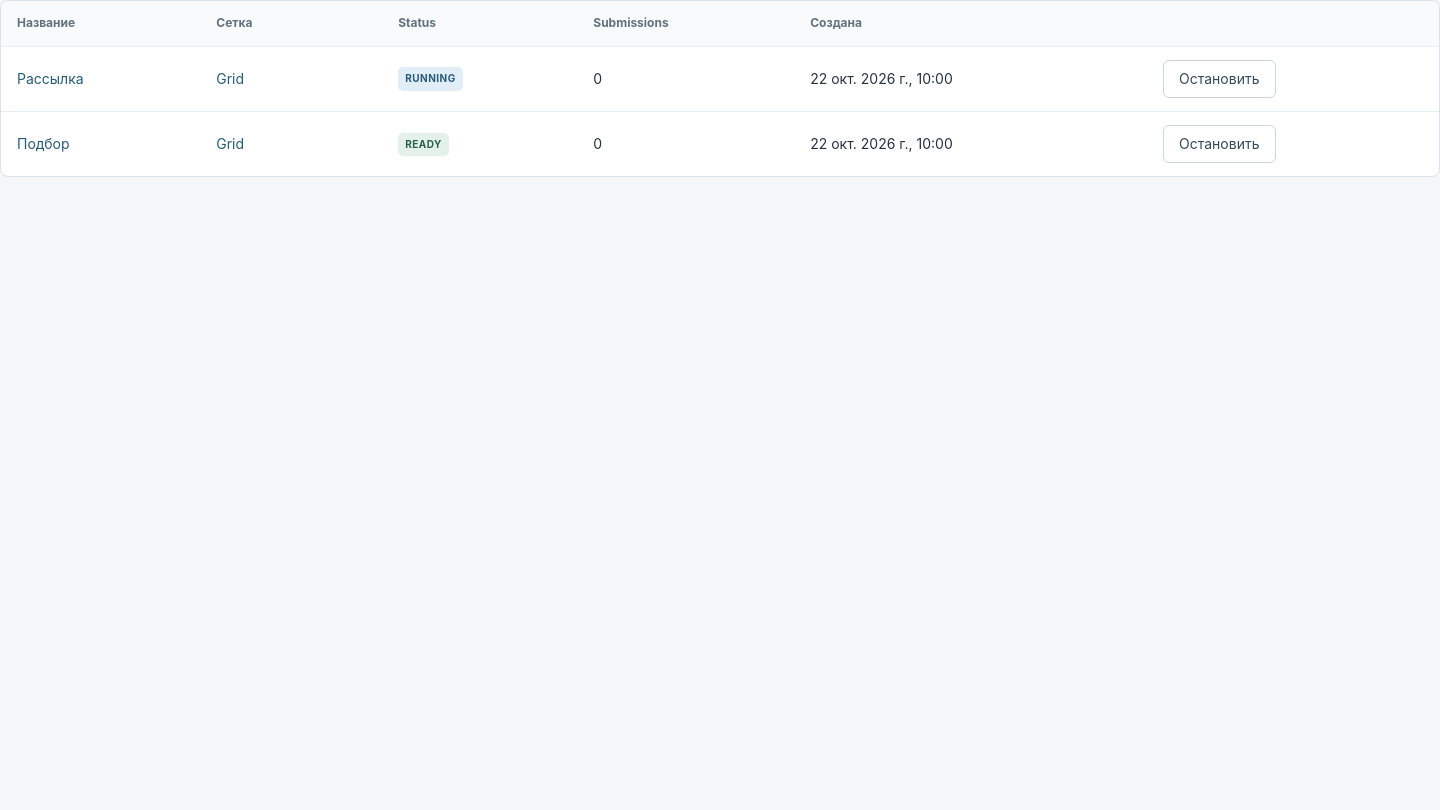
Test: offers to stop, not delete, a campaign in progress
This screenshot has width=1440, height=810.
Click the button "Остановить" in the row of "Рассылка": (1219, 79) [1163,60,1276,98]
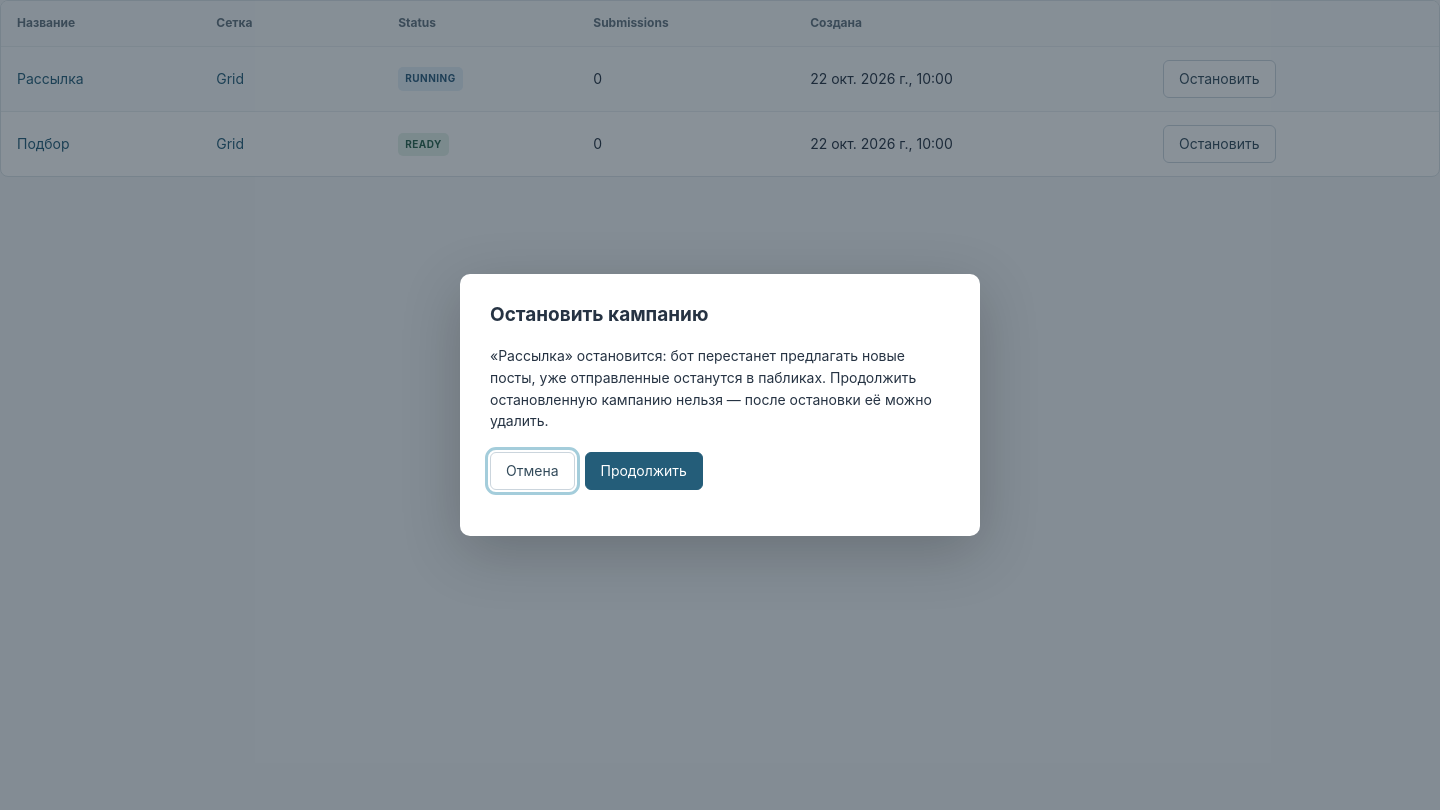
Result: the dialog "Остановить кампанию" shows "перестанет предлагать новые посты" at [490,347,905,386]
Click the button "Продолжить": (644, 471) [584,452,703,490]
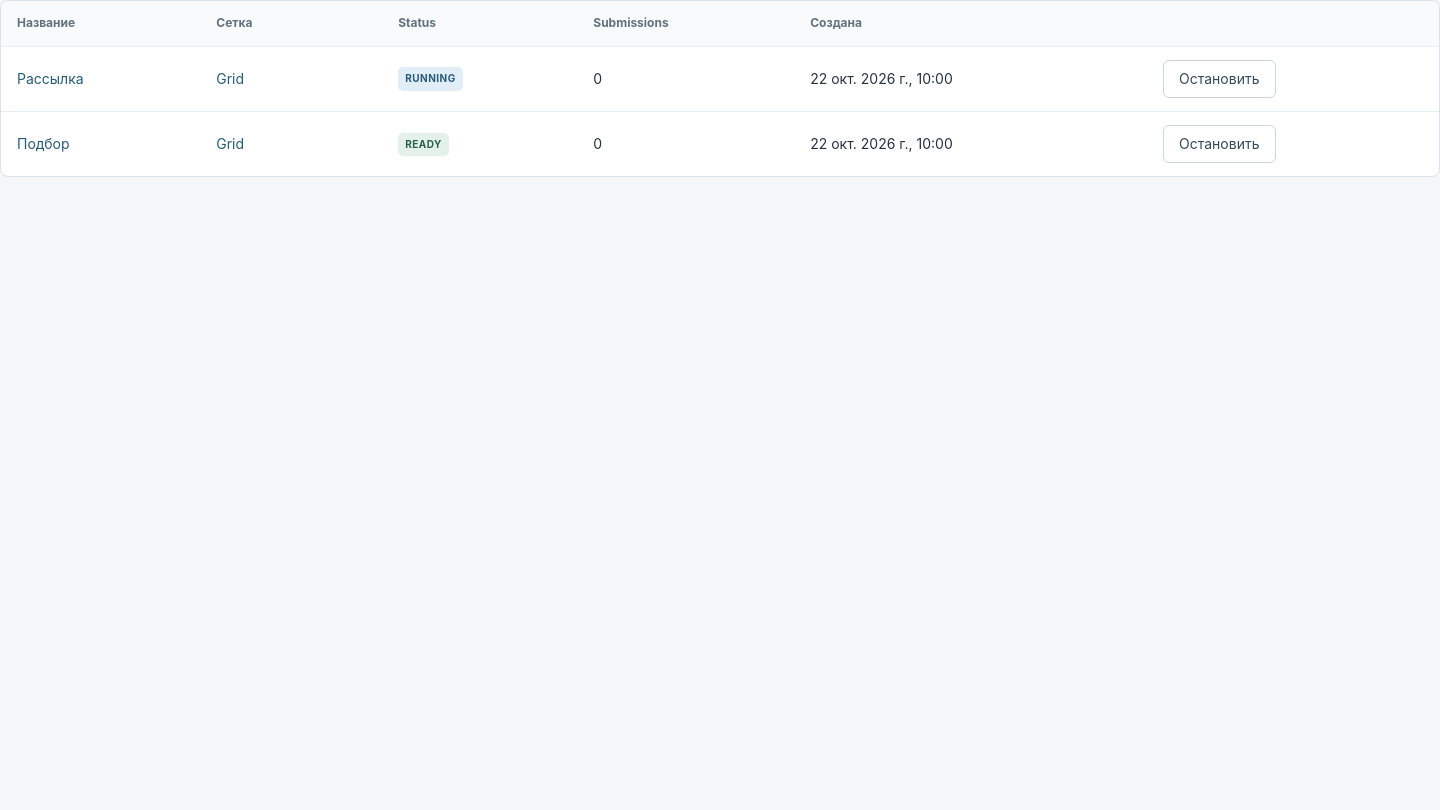
Click the button "Остановить" in the row of "Подбор": (1219, 144) [1163,125,1276,163]
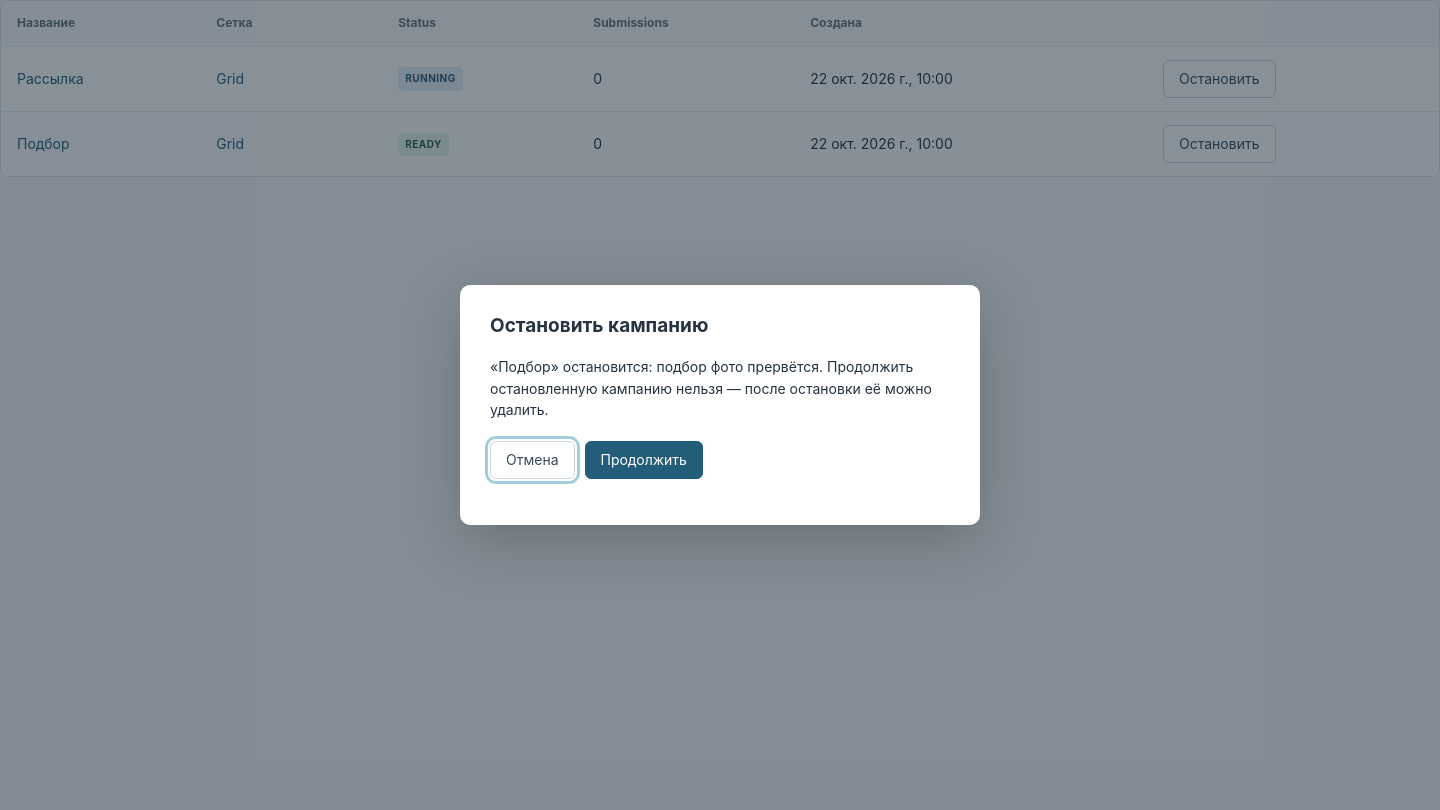
Result: the dialog shows "подбор фото прервётся" at [656,358,819,375]
